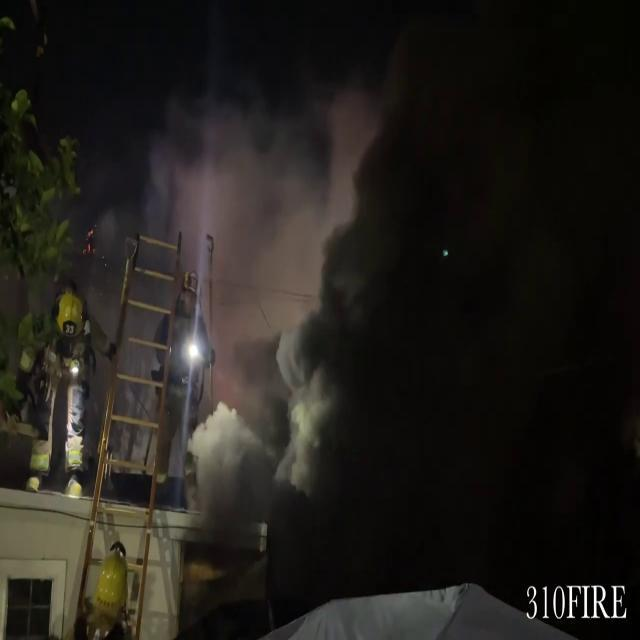Smoke: (144, 71, 385, 514)
